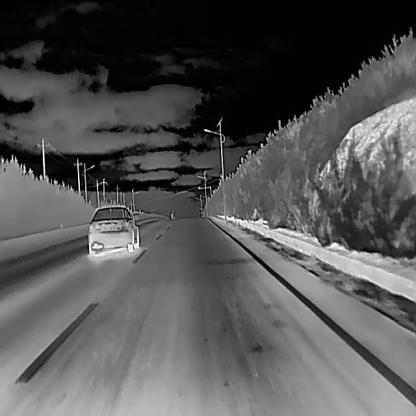car: (86, 205, 140, 252)
